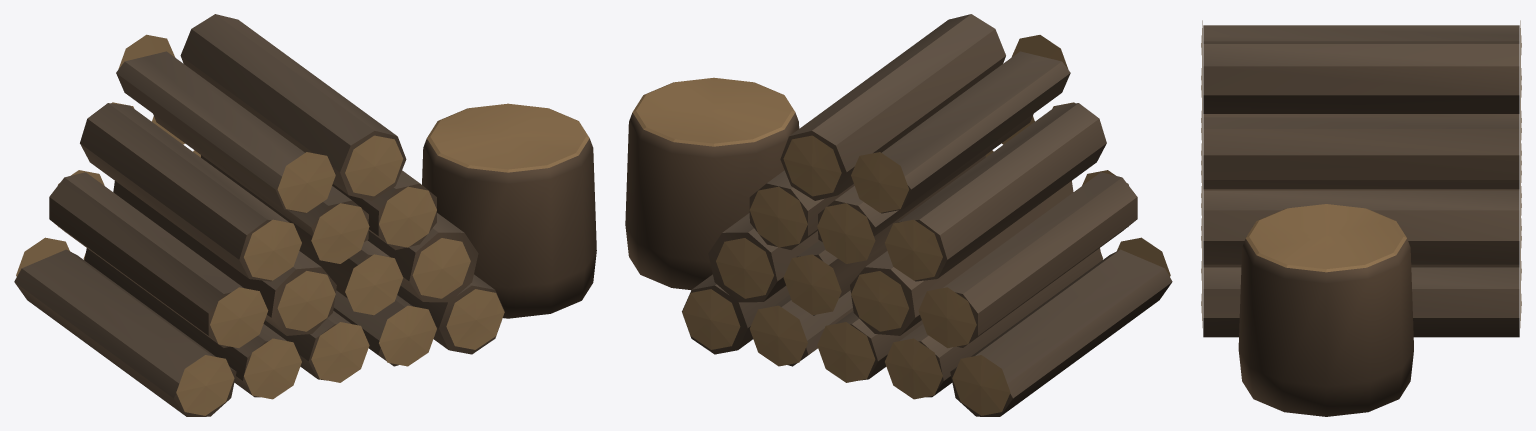
File: woodpile.glb
3 views of the same model, side by side, from view 1: azimuth 30°, elevation 25°; view 2: azimuth 150°, elevation 25°; view 3: azimuth 270°, elevation 25° (orthographic).
Visible parts, largest first — view 1: woodpile-bark, woodpile-ends; view 2: woodpile-bark, woodpile-ends; view 3: woodpile-bark, woodpile-ends.
Boxes of the visible parts, x1,y1,x2,y2 form: woodpile-bark: [14, 14, 596, 416]; woodpile-ends: [16, 34, 589, 415]; woodpile-bark: [625, 14, 1172, 416]; woodpile-ends: [632, 35, 1170, 415]; woodpile-bark: [1203, 25, 1519, 416]; woodpile-ends: [1201, 20, 1521, 327].
Bounding box in the file's own units: 1.54 × 0.7708 × 0.912.
